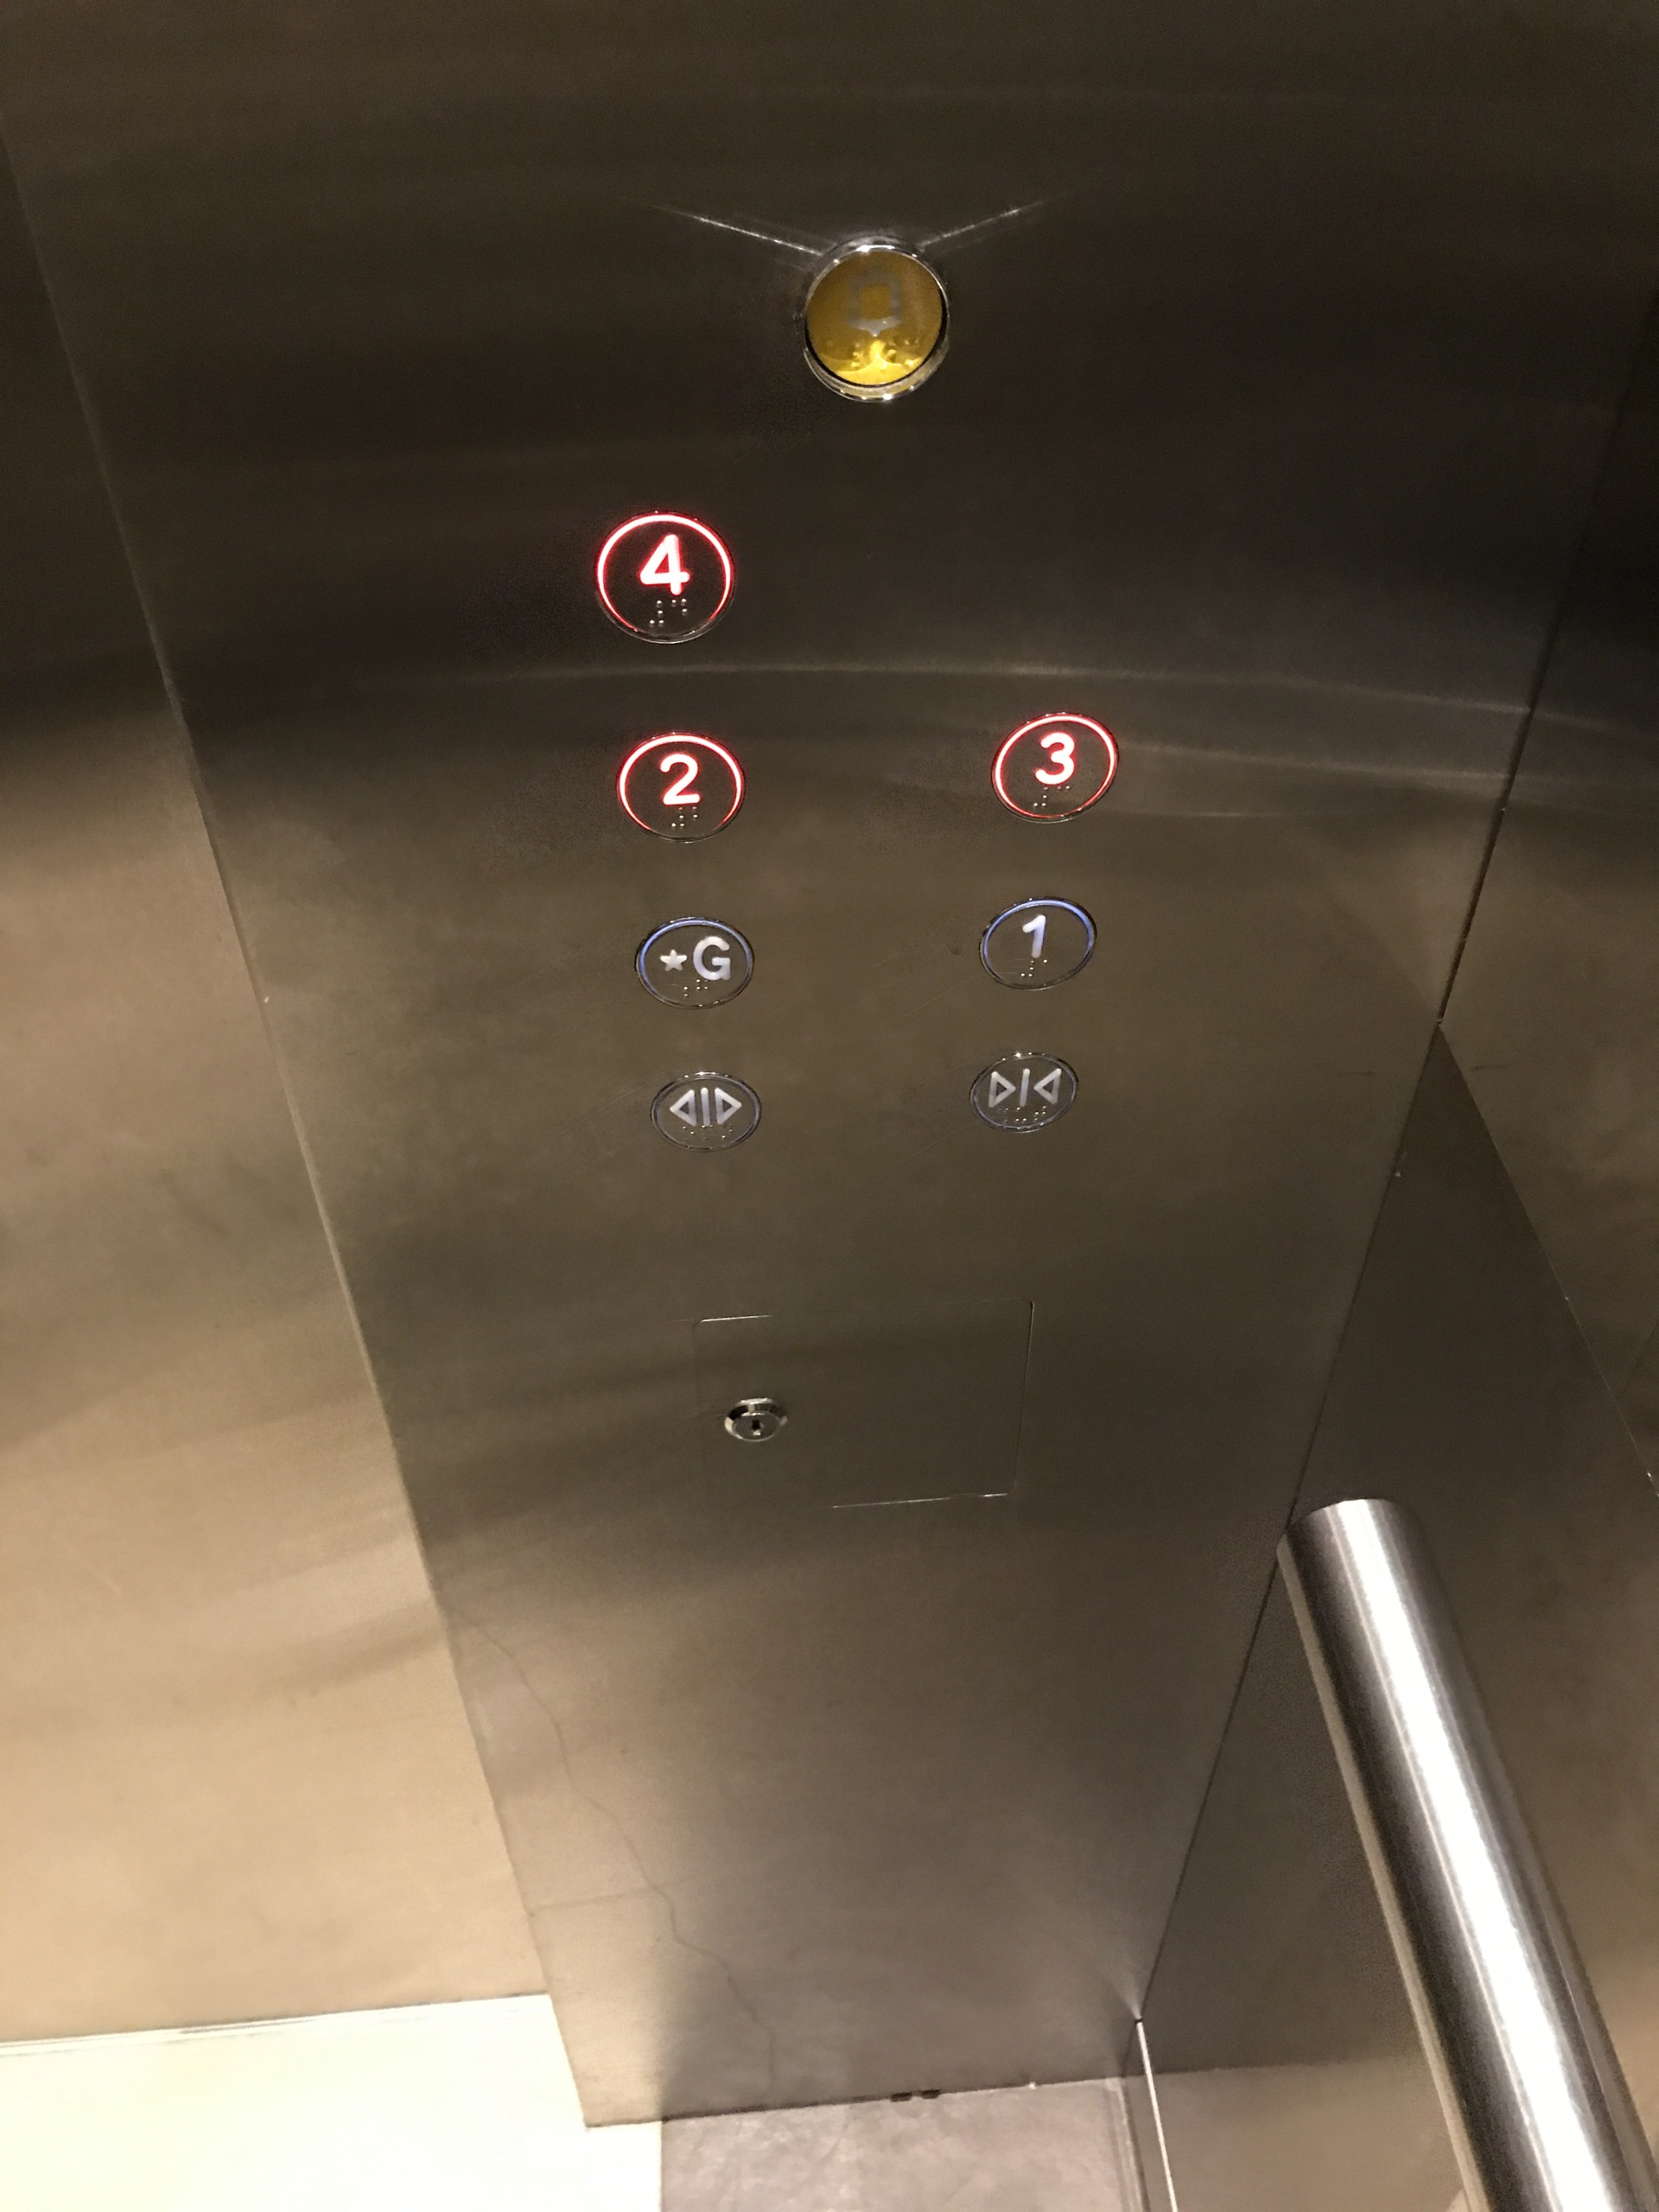1: (972, 890, 1101, 996)
2: (613, 726, 746, 845)
3: (988, 707, 1122, 824)
4: (594, 510, 734, 650)
alarm: (796, 228, 957, 406)
close: (958, 1042, 1086, 1137)
open: (640, 1062, 767, 1158)
sG: (629, 911, 758, 1015)
